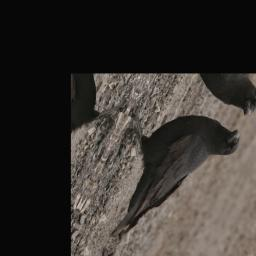Crow: (78, 83, 246, 256)
